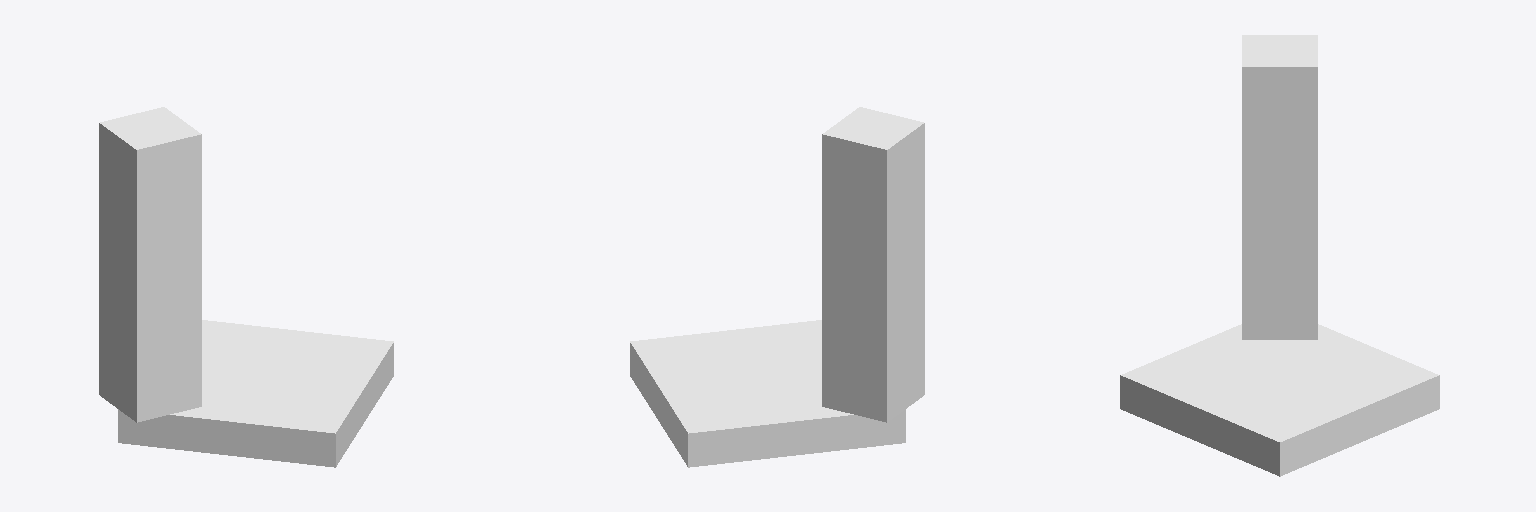
File: swan_standing_left_leg.obj
3 views of the same model, side by side, from view 1: azimuth 30°, elevation 25°; view 2: azimuth 150°, elevation 25°; view 3: azimuth 270°, elevation 25° (orthographic).
Parts seen in each view (by area): view 1: Element #1, Element #2; view 2: Element #1, Element #2; view 3: Element #2, Element #1.
Part boxes in pixels (x1,y1,x2,y2): Element #1: (99, 107, 201, 422); Element #2: (118, 320, 393, 467); Element #1: (822, 107, 924, 422); Element #2: (630, 320, 905, 467); Element #2: (1120, 324, 1439, 476); Element #1: (1242, 35, 1317, 339).
Bounding box in the file's own units: 4.24 × 4.5 × 4.24.